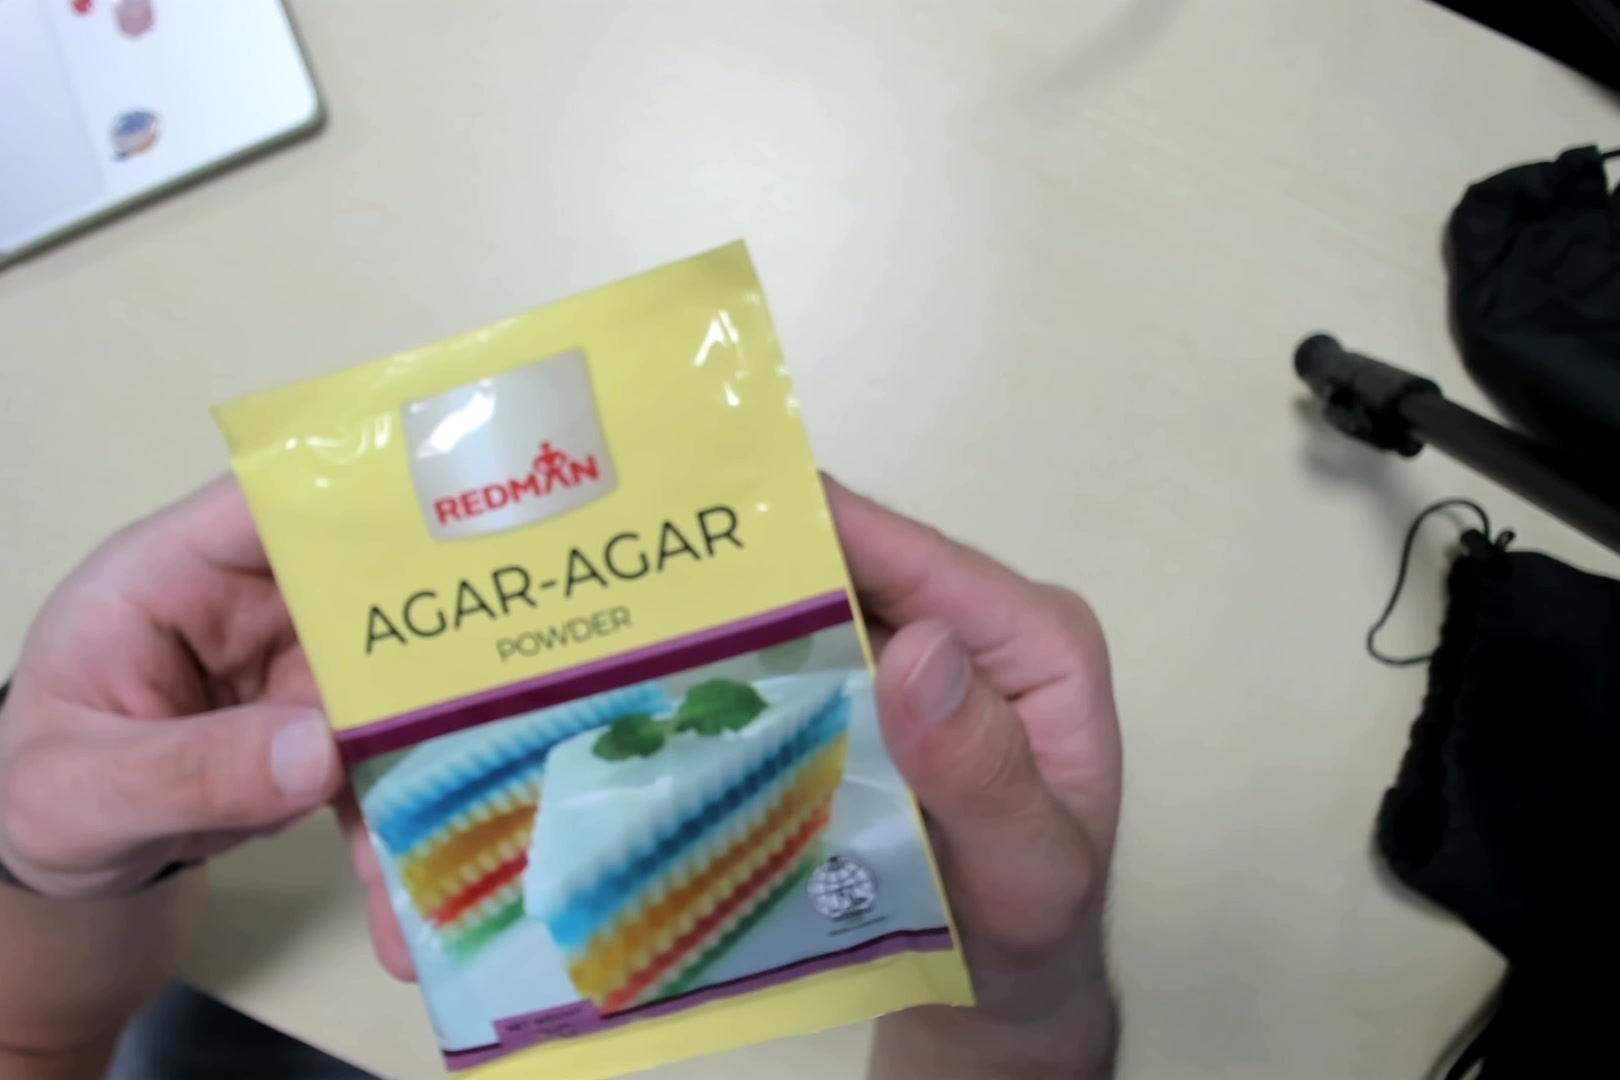OtherBakingNeeds_0-99g_Halal_NonHealthy: (297, 280, 959, 1073)
